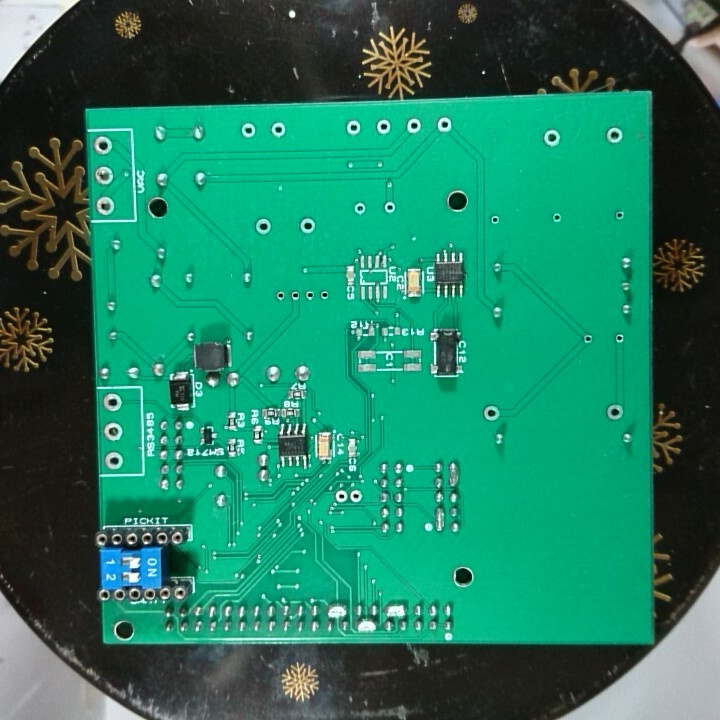F: (602, 400, 627, 426), (91, 133, 115, 158), (92, 163, 115, 188), (99, 392, 125, 414), (539, 126, 563, 149), (94, 195, 117, 218), (102, 421, 124, 444), (603, 123, 624, 147), (481, 403, 503, 425), (103, 450, 125, 472), (267, 118, 289, 140), (253, 215, 274, 238), (343, 118, 365, 138), (434, 113, 453, 136), (374, 117, 393, 138), (298, 215, 317, 235), (239, 119, 257, 140), (404, 115, 422, 136), (302, 284, 317, 304), (351, 200, 368, 217), (333, 488, 349, 506), (382, 198, 397, 217), (286, 286, 302, 303), (349, 488, 364, 506), (613, 206, 628, 223), (611, 331, 628, 346), (272, 286, 287, 303), (317, 287, 332, 303), (580, 332, 595, 347), (549, 209, 563, 225), (488, 212, 502, 227)
P: (382, 600, 409, 619), (323, 600, 348, 619), (446, 459, 461, 490), (354, 618, 380, 634), (432, 504, 445, 532)
